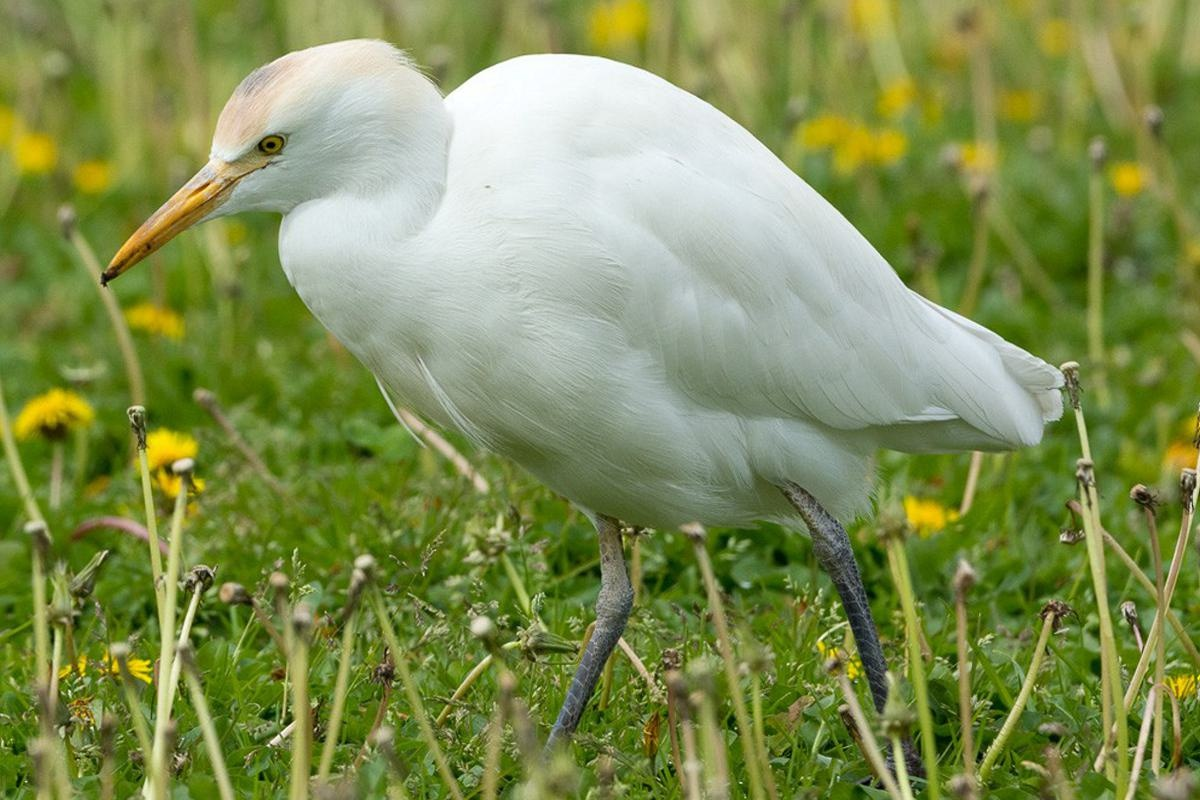egret: (109, 33, 1070, 738)
